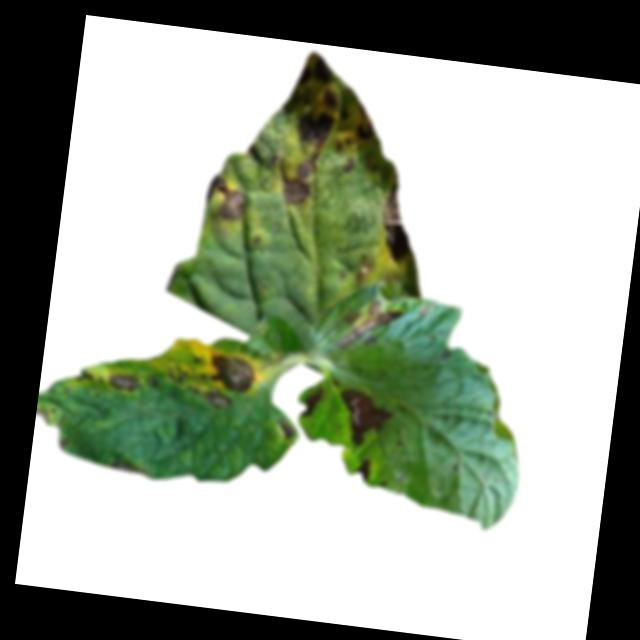Early_blight: (277, 49, 389, 140), (330, 296, 405, 361), (333, 386, 396, 449), (377, 178, 414, 261), (196, 349, 258, 395), (207, 176, 247, 227), (279, 156, 314, 208), (292, 110, 334, 150), (297, 383, 324, 420), (199, 390, 235, 415), (107, 370, 140, 395), (109, 460, 150, 477), (352, 455, 374, 482), (75, 368, 96, 386)
